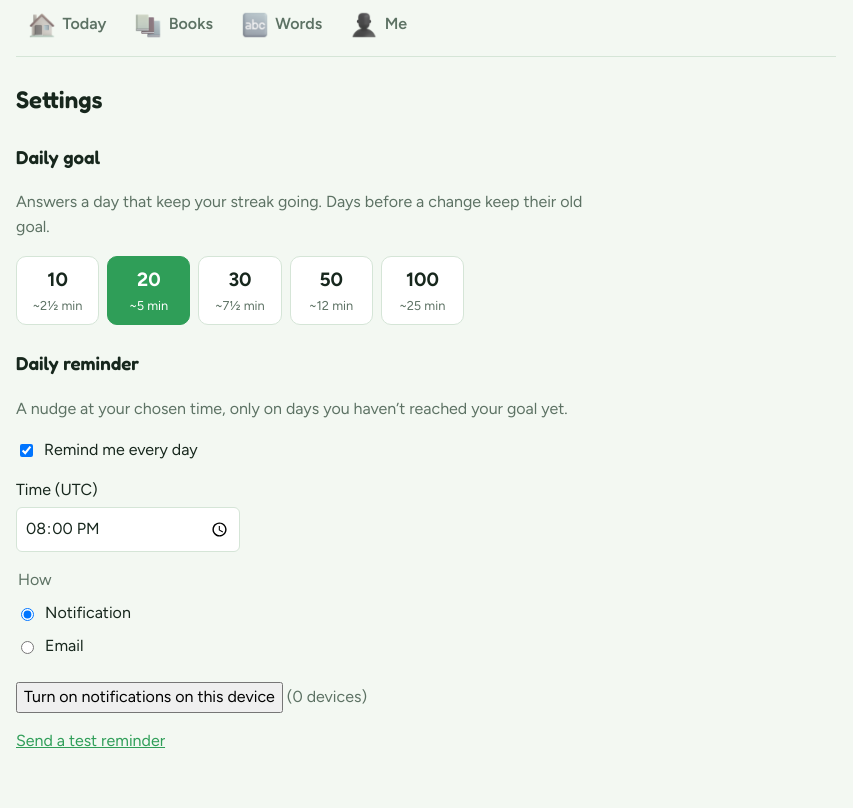
Test: daily reminder settings › explains when the browser refuses notifications
(page scrolled)
Click the button "Turn on notifications on this device". click: (149,698)
box: [16,682,283,713]
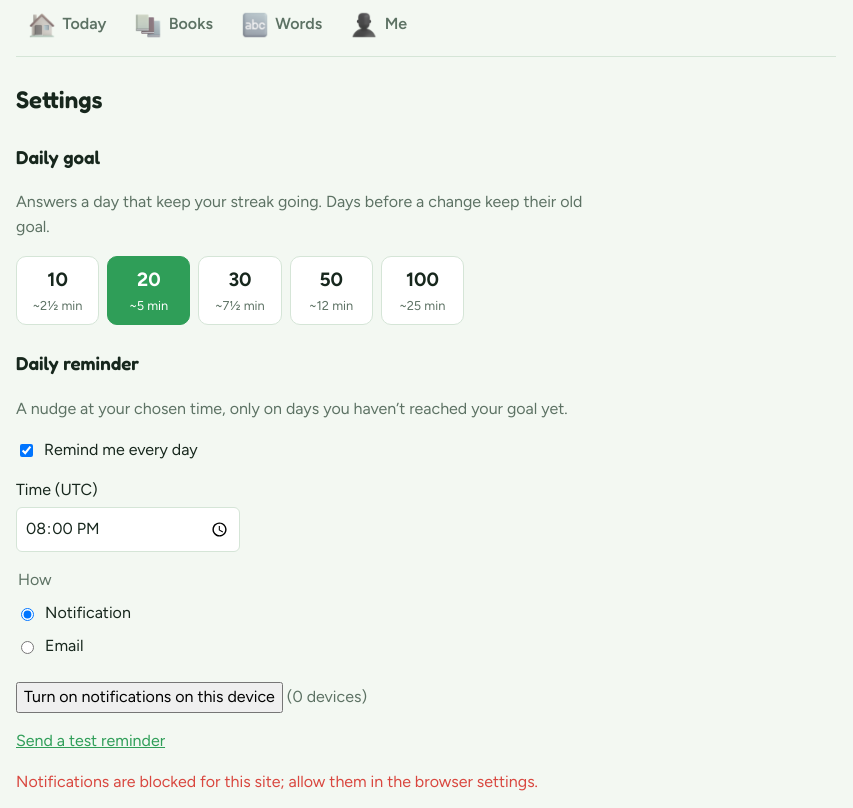
Expected: the message shows "Notifications are blocked", [16,772,538,791]
